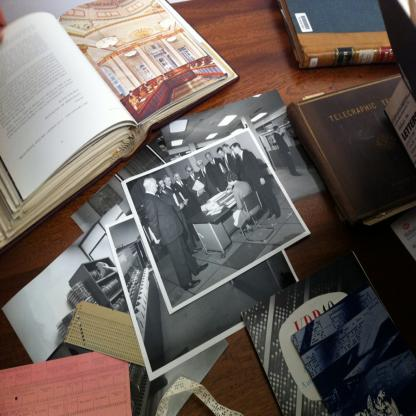book: (1, 0, 239, 253), (284, 74, 416, 228), (283, 0, 392, 67)
